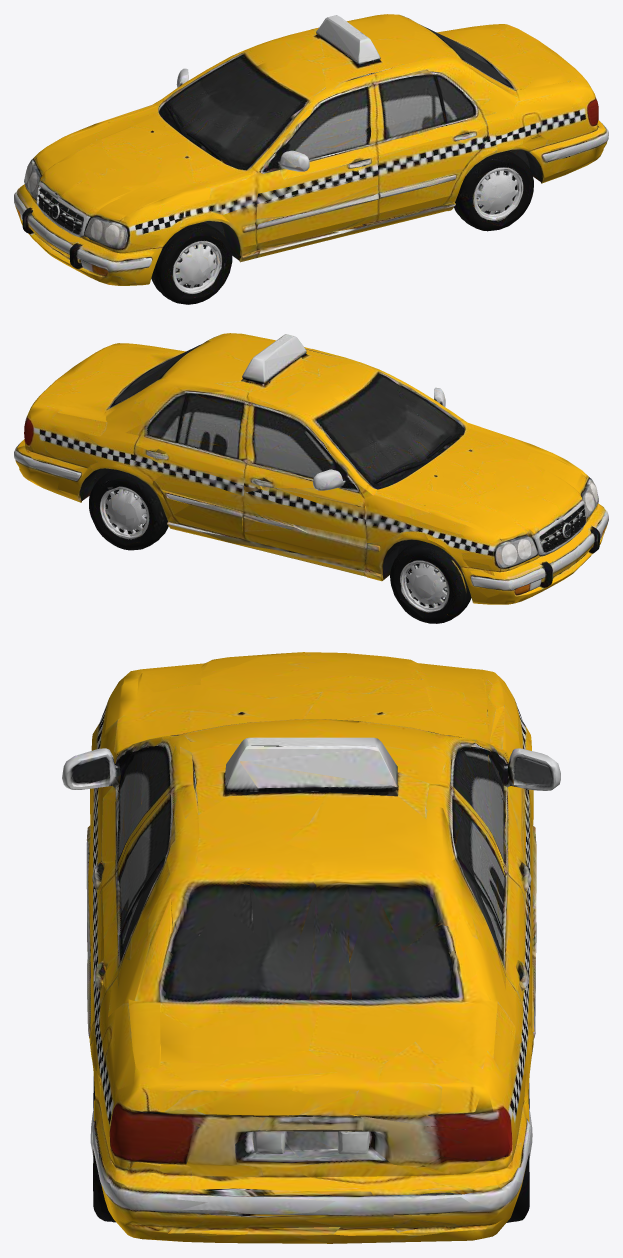
The model's file is car_taxi.glb.
The picture shows the model from 3 angles, top to bottom: view 1: azimuth 30°, elevation 25°; view 2: azimuth 150°, elevation 25°; view 3: azimuth 270°, elevation 25°; orthographic projection. The views are drawn at different scales.
Visible parts, largest first — view 1: Mesh_0; view 2: Mesh_0; view 3: Mesh_0.
Part boxes in pixels (bbox=[...]): Mesh_0: bbox=[14, 14, 608, 304]; Mesh_0: bbox=[14, 333, 608, 623]; Mesh_0: bbox=[62, 652, 560, 1243].
Size of the model in its own units: 1.9 by 0.656 by 0.7868.
1 material, 1 textured.
